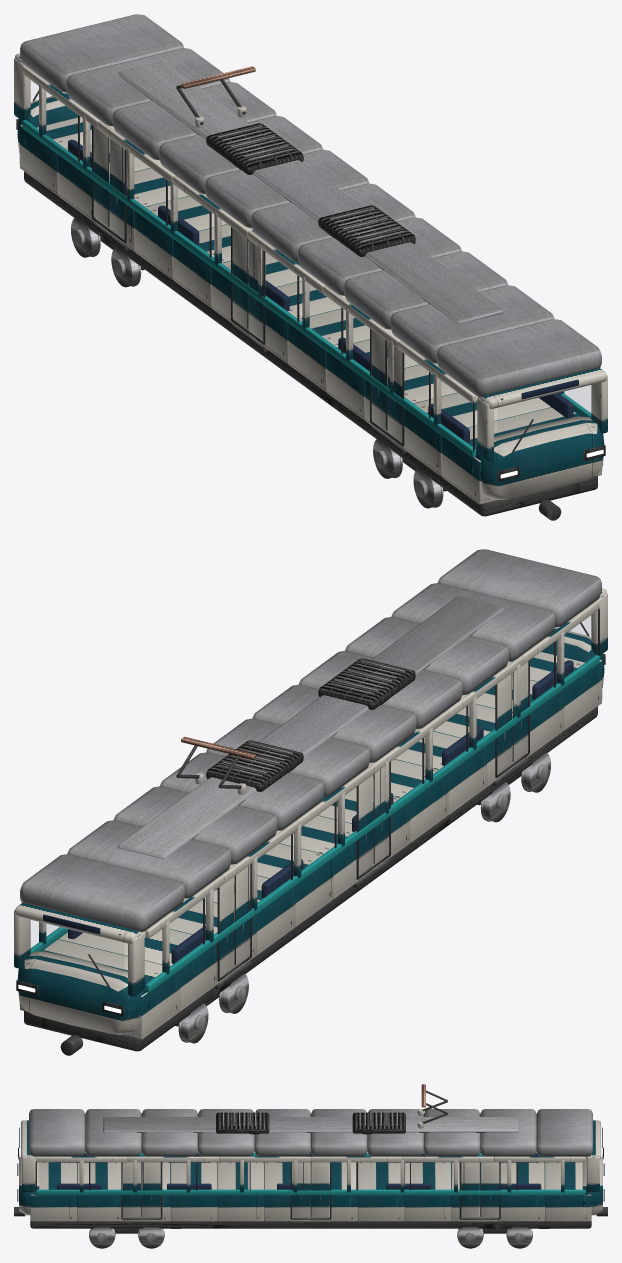
The model's file is train.glb.
3 renders of one model, top to bottom at view 1: azimuth 30°, elevation 25°; view 2: azimuth 150°, elevation 25°; view 3: azimuth 270°, elevation 25°, orthographic. The views are drawn at different scales.
Parts seen in each view (by area): view 1: TrainRoot_Static_IMG_satin_formed_roof, TrainRoot_Static_IMG_Ivory_teal_body_A, TrainRoot_Static_IMG_Ivory_teal_body_B, TrainRoot_Static_IMG_Sliding_door_stripe, TrainRoot_Static_IMG_dark_underbody_steel, TrainRoot_Static_IMG_metal_ventilation_slats, TrainRoot_Static_Rail_teal_accent, TrainRoot_Static_IMG_rubber_gaskets, TrainRoot_Static_IMG_machined_running_steel, TrainRoot_Static_IMG_woven_navy_seating, TrainRoot_Static_IMG_brushed_aluminium, TrainRoot_Static_IMG_Lower_panel_fasteners; view 2: TrainRoot_Static_IMG_satin_formed_roof, TrainRoot_Static_IMG_Ivory_teal_body_A, TrainRoot_Static_IMG_Ivory_teal_body_B, TrainRoot_Static_IMG_Sliding_door_stripe, TrainRoot_Static_IMG_dark_underbody_steel, TrainRoot_Static_IMG_metal_ventilation_slats, TrainRoot_Static_Rail_teal_accent, TrainRoot_Static_IMG_rubber_gaskets, TrainRoot_Static_IMG_machined_running_steel, TrainRoot_Static_IMG_woven_navy_seating, TrainRoot_Static_IMG_brushed_aluminium, TrainRoot_Static_IMG_Lower_panel_fasteners; view 3: TrainRoot_Static_IMG_satin_formed_roof, TrainRoot_Static_IMG_Ivory_teal_body_B, TrainRoot_Static_IMG_Ivory_teal_body_A, TrainRoot_Static_IMG_Sliding_door_stripe, TrainRoot_Static_IMG_dark_underbody_steel, TrainRoot_Static_Rail_teal_accent, TrainRoot_Static_IMG_metal_ventilation_slats, TrainRoot_Static_IMG_rubber_gaskets, TrainRoot_Static_IMG_Lower_panel_fasteners, TrainRoot_Static_IMG_machined_running_steel, TrainRoot_Static_IMG_woven_navy_seating, TrainRoot_Static_IMG_brushed_aluminium.
Part boxes in pixels (box(x1,y1,x2,y2)): TrainRoot_Static_IMG_satin_formed_roof: box(20, 14, 601, 396); TrainRoot_Static_IMG_Ivory_teal_body_A: box(14, 53, 607, 501); TrainRoot_Static_IMG_Ivory_teal_body_B: box(17, 65, 604, 499); TrainRoot_Static_IMG_Sliding_door_stripe: box(93, 126, 402, 441); TrainRoot_Static_IMG_dark_underbody_steel: box(24, 79, 597, 520); TrainRoot_Static_IMG_metal_ventilation_slats: box(206, 123, 415, 256); TrainRoot_Static_Rail_teal_accent: box(22, 120, 591, 457); TrainRoot_Static_IMG_rubber_gaskets: box(16, 90, 605, 481); TrainRoot_Static_IMG_machined_running_steel: box(71, 217, 443, 508); TrainRoot_Static_IMG_woven_navy_seating: box(68, 139, 573, 443); TrainRoot_Static_IMG_brushed_aluminium: box(73, 126, 427, 496); TrainRoot_Static_IMG_Lower_panel_fasteners: box(20, 106, 601, 504); TrainRoot_Static_IMG_satin_formed_roof: box(20, 549, 601, 931); TrainRoot_Static_IMG_Ivory_teal_body_A: box(14, 588, 607, 1036); TrainRoot_Static_IMG_Ivory_teal_body_B: box(17, 600, 604, 1034); TrainRoot_Static_IMG_Sliding_door_stripe: box(219, 661, 528, 976); TrainRoot_Static_IMG_dark_underbody_steel: box(24, 706, 597, 1055); TrainRoot_Static_IMG_metal_ventilation_slats: box(206, 658, 415, 791); TrainRoot_Static_Rail_teal_accent: box(30, 655, 599, 992); TrainRoot_Static_IMG_rubber_gaskets: box(16, 608, 605, 1016); TrainRoot_Static_IMG_machined_running_steel: box(178, 752, 550, 1043); TrainRoot_Static_IMG_woven_navy_seating: box(68, 660, 573, 963); TrainRoot_Static_IMG_brushed_aluminium: box(194, 660, 548, 1031); TrainRoot_Static_IMG_Lower_panel_fasteners: box(20, 700, 601, 1039); TrainRoot_Static_IMG_satin_formed_roof: box(29, 1109, 592, 1156); TrainRoot_Static_IMG_Ivory_teal_body_B: box(19, 1155, 602, 1219); TrainRoot_Static_IMG_Ivory_teal_body_A: box(21, 1120, 600, 1218); TrainRoot_Static_IMG_Sliding_door_stripe: box(123, 1162, 498, 1217); TrainRoot_Static_IMG_dark_underbody_steel: box(14, 1090, 607, 1233); TrainRoot_Static_Rail_teal_accent: box(36, 1153, 585, 1195); TrainRoot_Static_IMG_metal_ventilation_slats: box(216, 1112, 405, 1134); TrainRoot_Static_IMG_rubber_gaskets: box(17, 1147, 604, 1219); TrainRoot_Static_IMG_Lower_panel_fasteners: box(30, 1109, 591, 1221); TrainRoot_Static_IMG_machined_running_steel: box(89, 1227, 532, 1248); TrainRoot_Static_IMG_woven_navy_seating: box(57, 1152, 541, 1189); TrainRoot_Static_IMG_brushed_aluminium: box(97, 1112, 524, 1242).
Size of the model in its own units: 3.04 by 5.09 by 20.
Materials: 18 (16 with a texture image).
